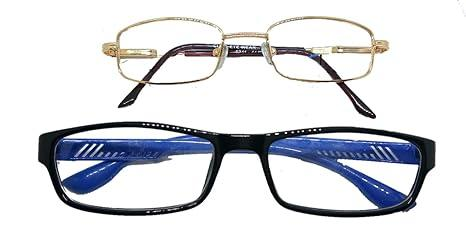spectacles: (32, 118, 435, 224), (68, 17, 432, 119)
